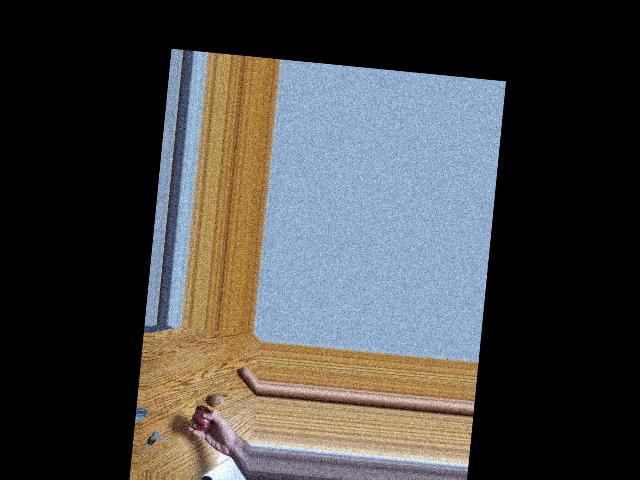onion: (190, 409, 211, 432)
